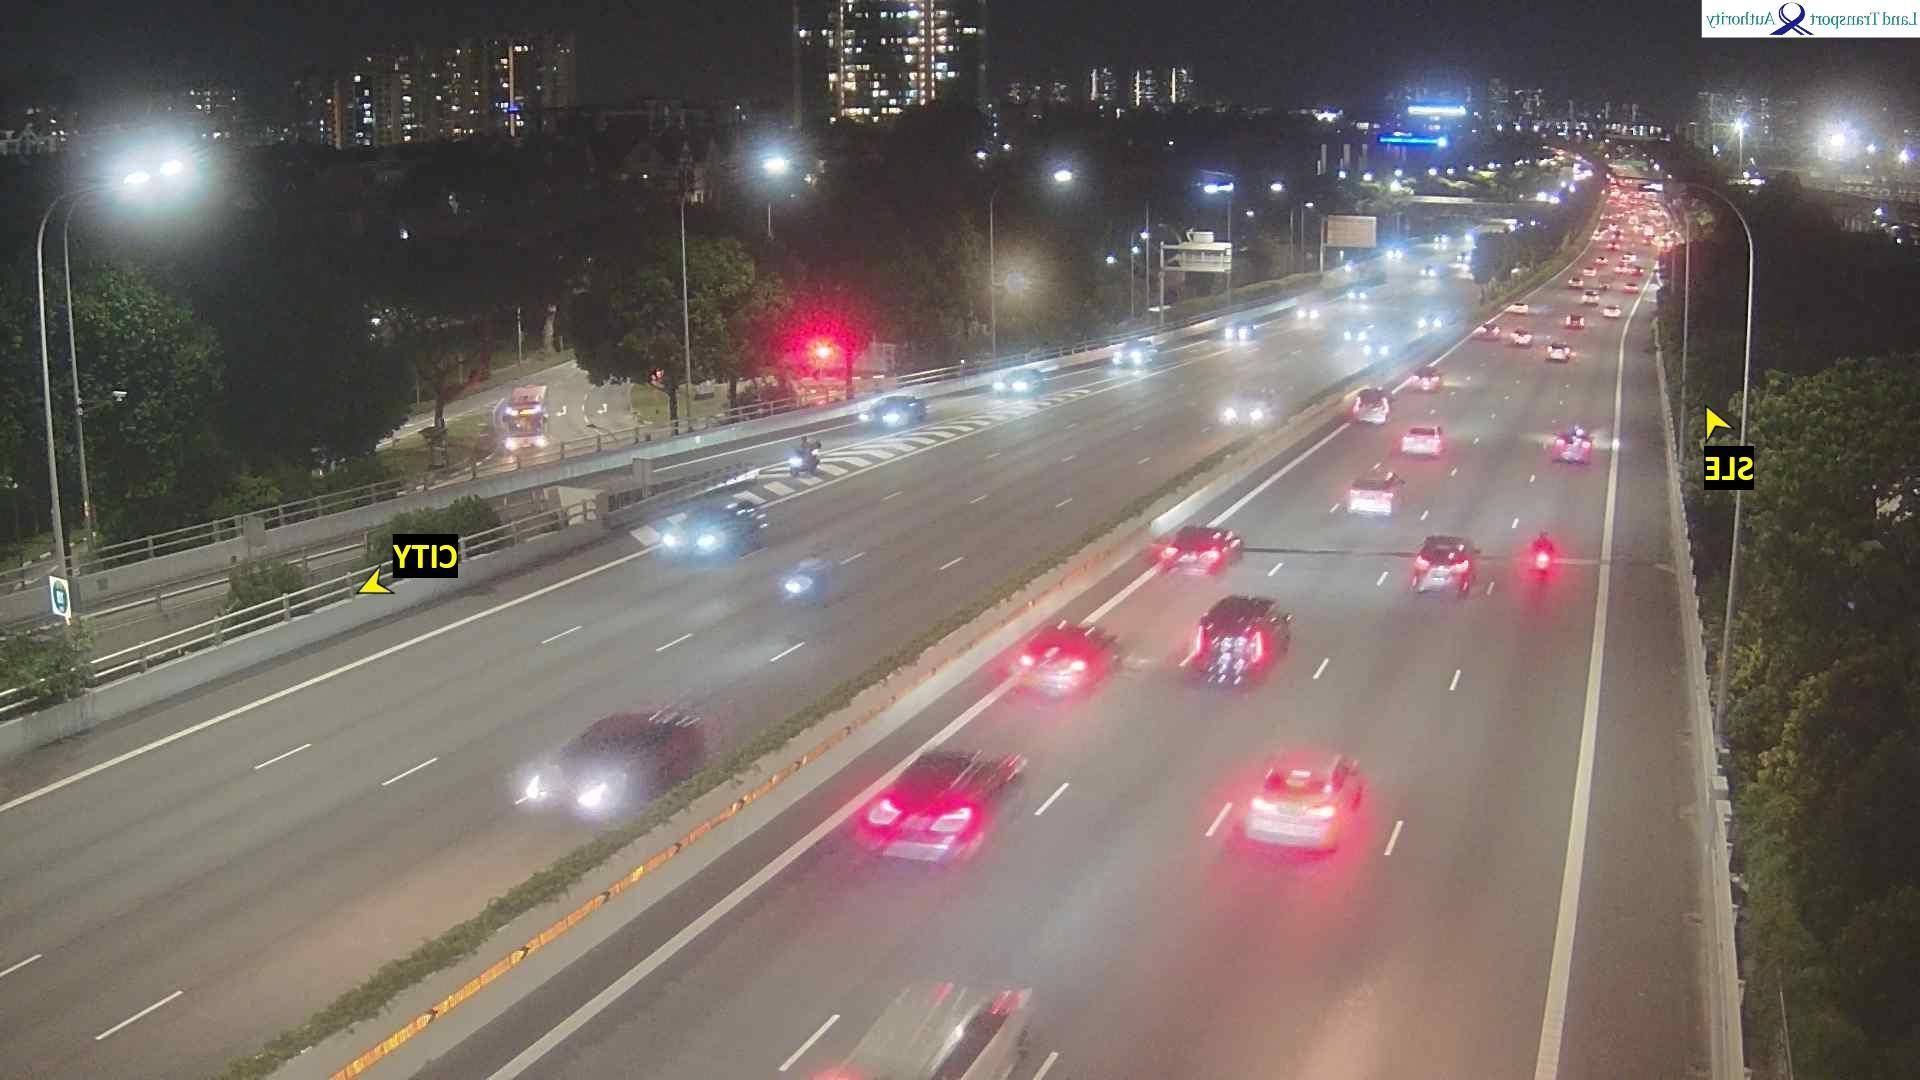incoming: (512, 723, 671, 831), (657, 502, 741, 563), (857, 394, 914, 429), (990, 367, 1036, 398), (1110, 340, 1150, 368), (784, 444, 813, 481)
